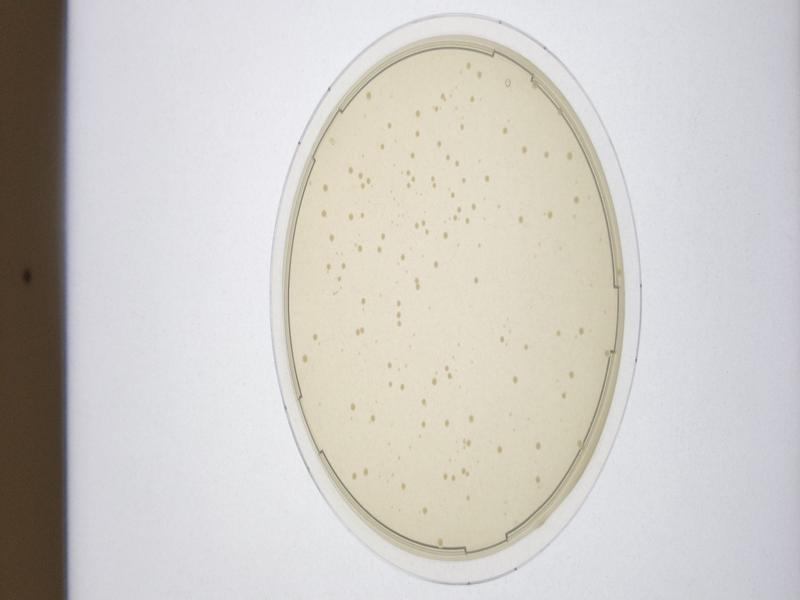colony: (567, 193, 588, 207), (438, 227, 452, 242), (530, 471, 544, 486), (411, 106, 425, 120), (376, 229, 390, 243), (543, 207, 555, 223), (518, 142, 528, 161), (360, 464, 370, 483), (481, 171, 494, 185), (537, 147, 551, 160), (513, 213, 527, 226), (430, 258, 444, 271), (396, 251, 410, 264), (417, 394, 430, 408), (317, 181, 332, 193), (509, 372, 521, 387), (565, 369, 577, 384), (532, 437, 544, 452), (405, 148, 418, 161), (316, 205, 328, 219), (345, 401, 359, 413), (365, 412, 379, 424), (464, 412, 476, 426), (384, 117, 395, 132), (396, 379, 407, 394), (467, 93, 479, 106), (417, 505, 429, 518), (520, 340, 532, 353), (497, 125, 511, 136), (412, 126, 422, 141), (397, 481, 407, 496), (457, 121, 469, 133), (434, 138, 445, 151), (384, 358, 395, 371), (384, 378, 395, 391), (435, 471, 448, 482), (577, 324, 588, 337), (460, 494, 473, 505), (496, 333, 506, 347), (554, 328, 564, 342), (556, 389, 566, 403), (418, 418, 428, 432), (324, 233, 336, 244), (494, 444, 505, 456), (442, 416, 452, 429), (453, 157, 462, 171), (469, 199, 478, 213), (358, 209, 367, 223), (345, 164, 356, 175), (372, 244, 384, 254), (354, 243, 364, 255), (458, 175, 469, 185), (429, 375, 439, 386), (378, 141, 387, 153), (471, 275, 481, 285), (309, 332, 319, 342), (345, 212, 354, 222), (443, 151, 451, 162), (359, 296, 367, 306)
